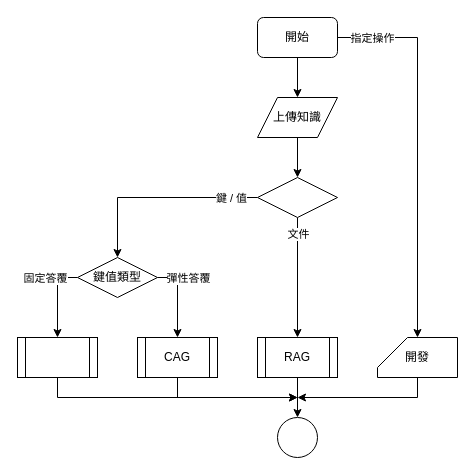
This 475x475 diagram has some shape labels left out. The centre of each missing label's shape, as x and y in pixels:
Cache: the point at 57,357
知識類型: the point at 297,197
結束: the point at 297,437
